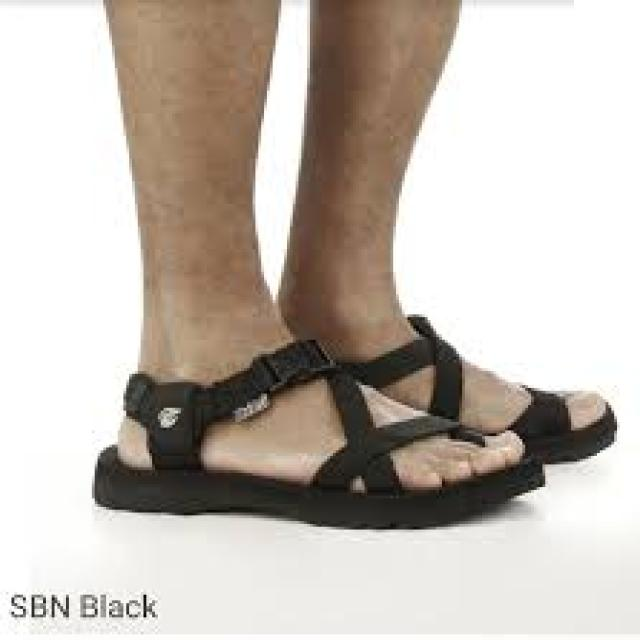Sandals: (92, 296, 546, 530)
